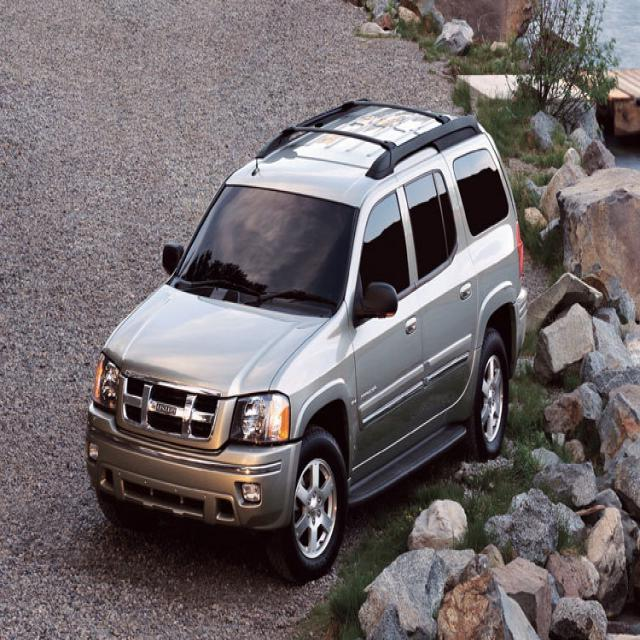Zeep: (85, 88, 532, 585)
